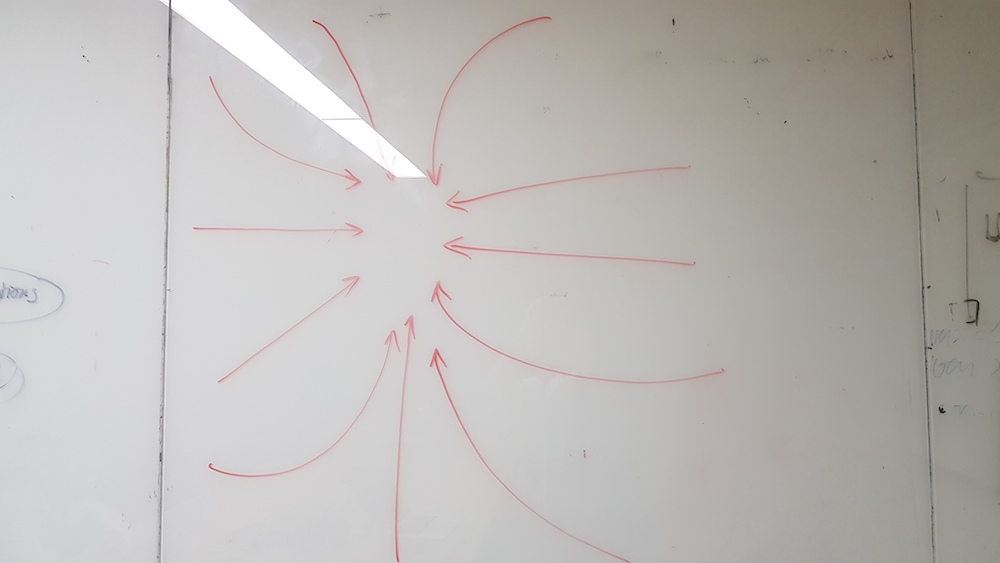arrow: (306, 273, 363, 316), (308, 156, 364, 196), (422, 346, 458, 407), (293, 216, 366, 246), (442, 185, 513, 215), (427, 280, 466, 333), (440, 232, 505, 263), (369, 328, 401, 386), (419, 131, 447, 192), (395, 312, 421, 374)
